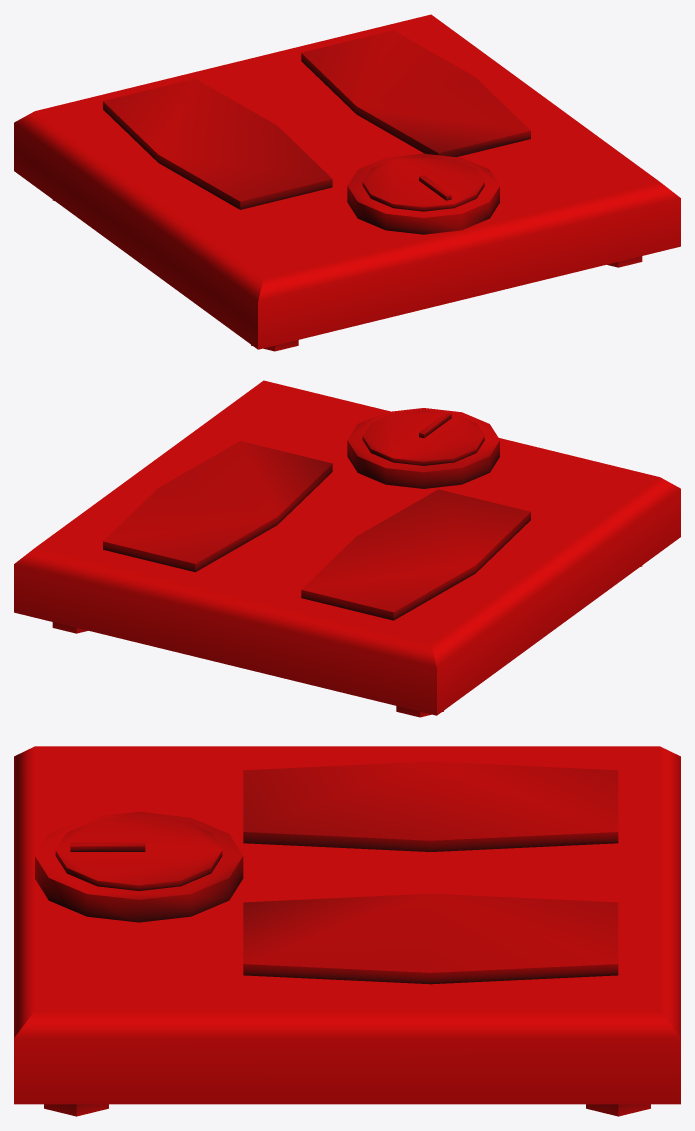
File: CI_Bathroom_BathroomScale.glb
3 renders of one model, top to bottom at view 1: azimuth 30°, elevation 25°; view 2: azimuth 150°, elevation 25°; view 3: azimuth 270°, elevation 25°, orthographic. The views are drawn at different scales.
Visible parts, largest first — view 1: CI_Bathroom_BathroomScale; view 2: CI_Bathroom_BathroomScale; view 3: CI_Bathroom_BathroomScale.
Boxes of the visible parts, x1,y1,x2,y2 form: CI_Bathroom_BathroomScale: [14, 14, 680, 351]; CI_Bathroom_BathroomScale: [14, 380, 680, 717]; CI_Bathroom_BathroomScale: [14, 746, 680, 1116].
Bounding box in the file's own units: 0.32 × 0.075 × 0.32.
